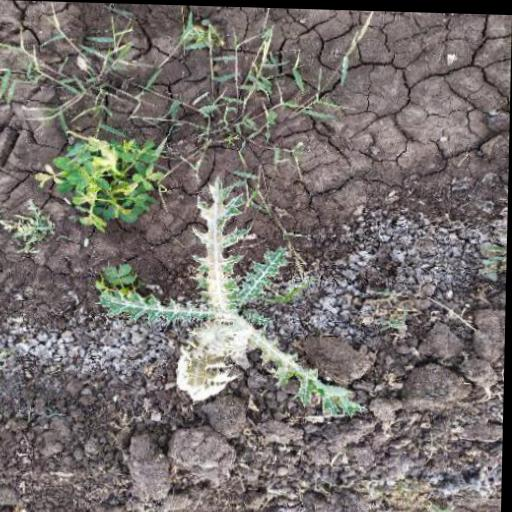weed: (0, 14, 352, 213), (83, 180, 376, 419)
